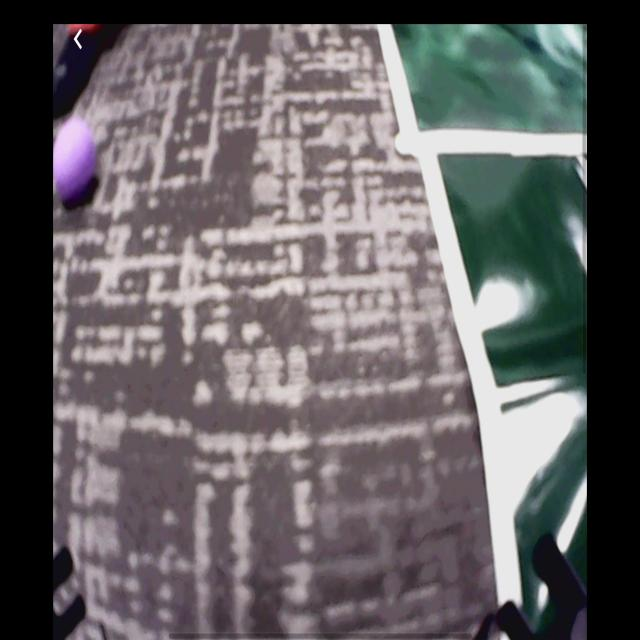ball: (57, 117, 99, 212)
